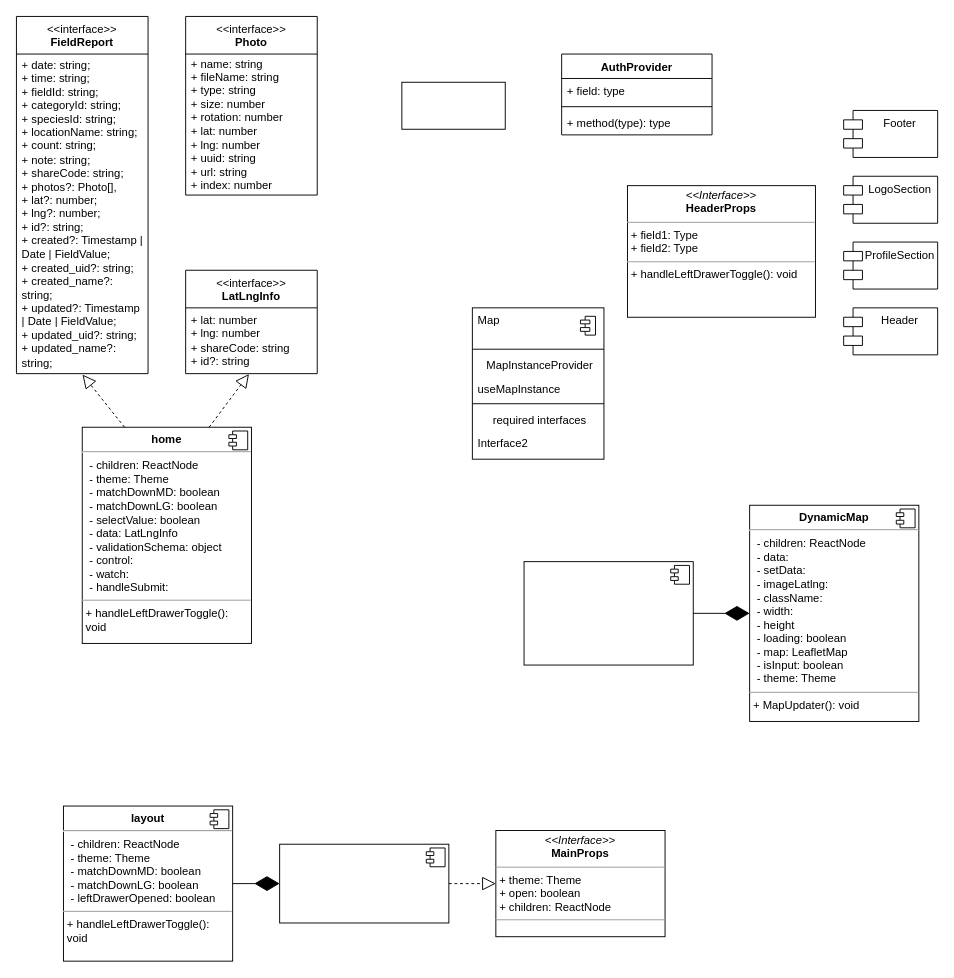
Some shapes in this 954 by 978 pixel diagram are drawn without their labels. Here are the shapes that lost their labels. From the top down, the centre of each, then its label:
the point at 453,105: «interface» ChildUser
the point at 608,613: Map - children: ReactNode - theme: Theme +
the point at 364,883: Main - children: ReactNode - theme: Theme
